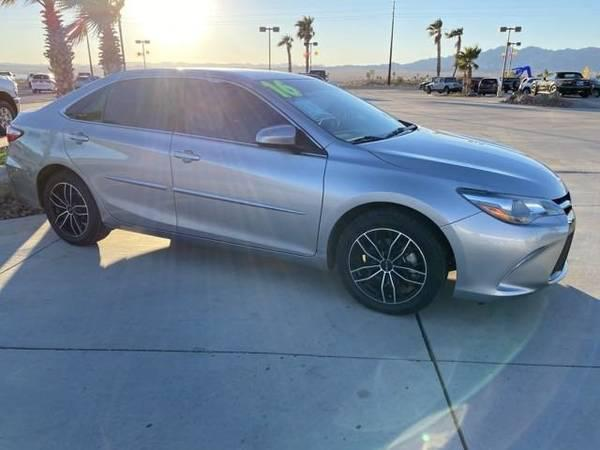Front_Bumper: (441, 212, 573, 295)
Front_Fender: (311, 139, 501, 271)
Front_Right_Door: (168, 133, 326, 267)
Front_Right_Window: (172, 78, 325, 155)
Front_Windshield: (265, 80, 417, 142)
Grille: (553, 193, 574, 222)
Hood: (359, 124, 569, 198)
Rear_Bumper: (9, 158, 42, 217)
Rear_Fender: (4, 105, 63, 169)
Rear_Right_Door: (56, 112, 173, 237)
Rear_Right_Window: (59, 76, 179, 131)
Right_Headlight: (456, 188, 565, 226)
Right_Taillight: (6, 126, 25, 146)
Roof: (53, 66, 336, 146)
Wheel: (335, 209, 445, 314), (40, 172, 108, 246)
